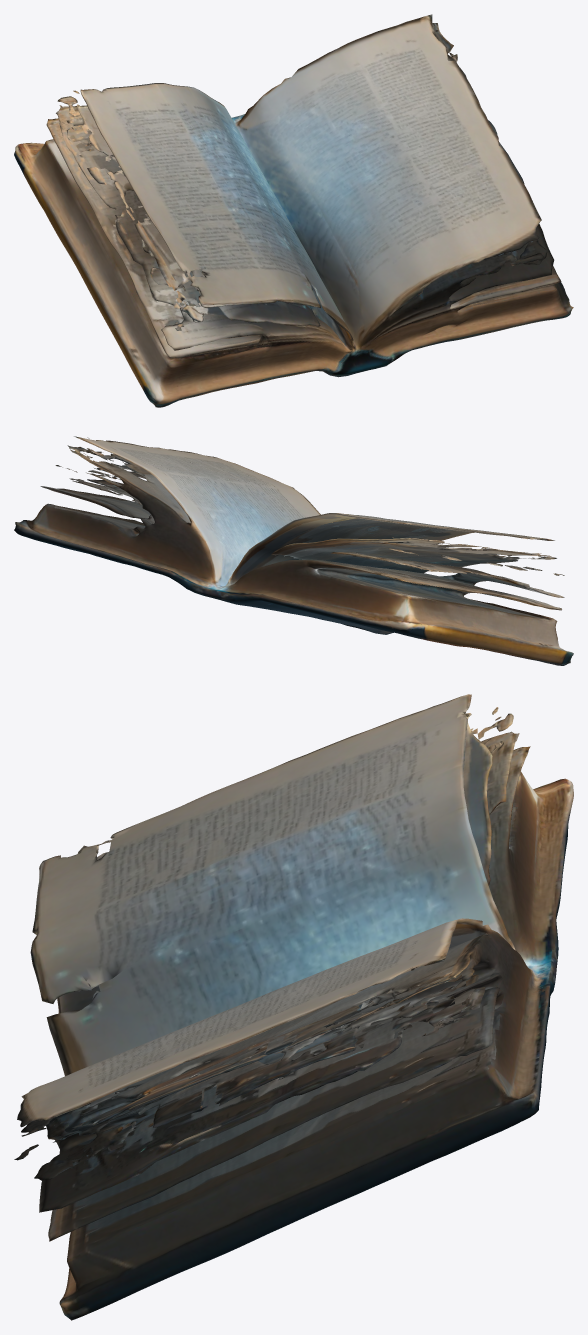
File: book_v2.glb
3 renders of one model, top to bottom at view 1: azimuth 30°, elevation 25°; view 2: azimuth 150°, elevation 25°; view 3: azimuth 270°, elevation 25°, orthographic. The views are drawn at different scales.
Bounding box in the file's own units: 2.01 × 1.06 × 1.46.
1 material, 1 textured.
